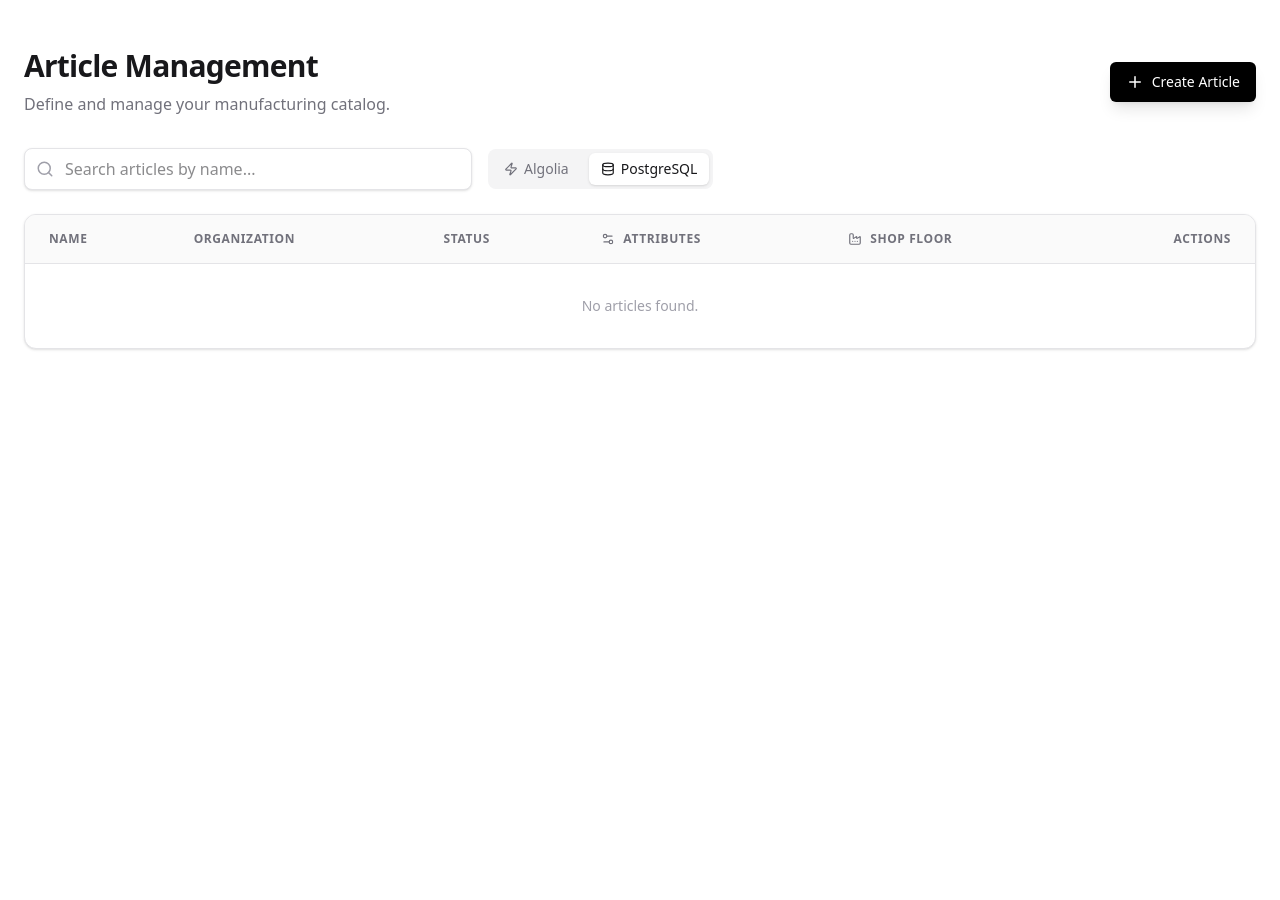
Articles Component › opens create form when Create Article button is clicked
Click the button "Create Article".
click(1183, 82)  # box [1110,62,1256,102]
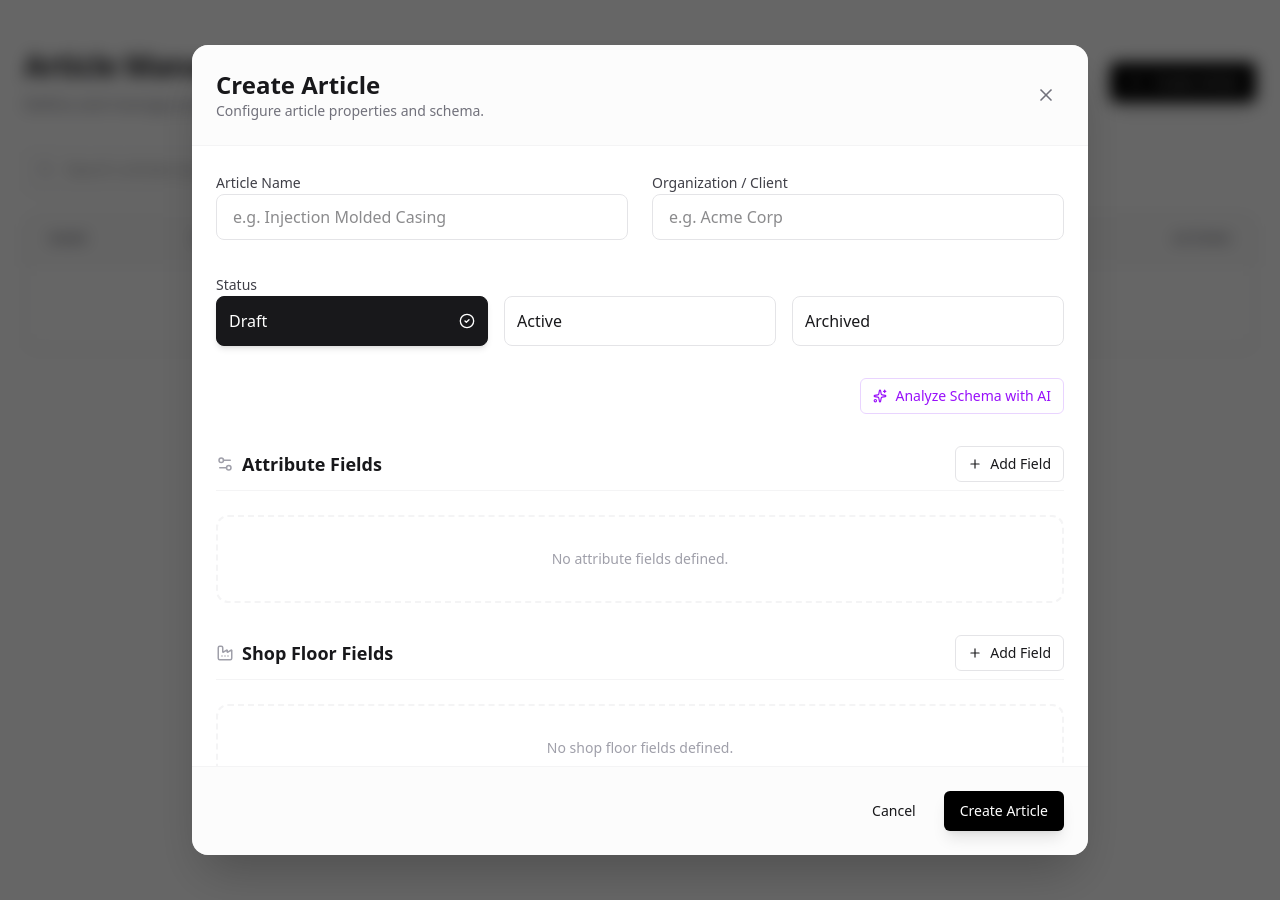
expect the text "Configure article properties and schema." is shown: met, box [216,101,484,121]
